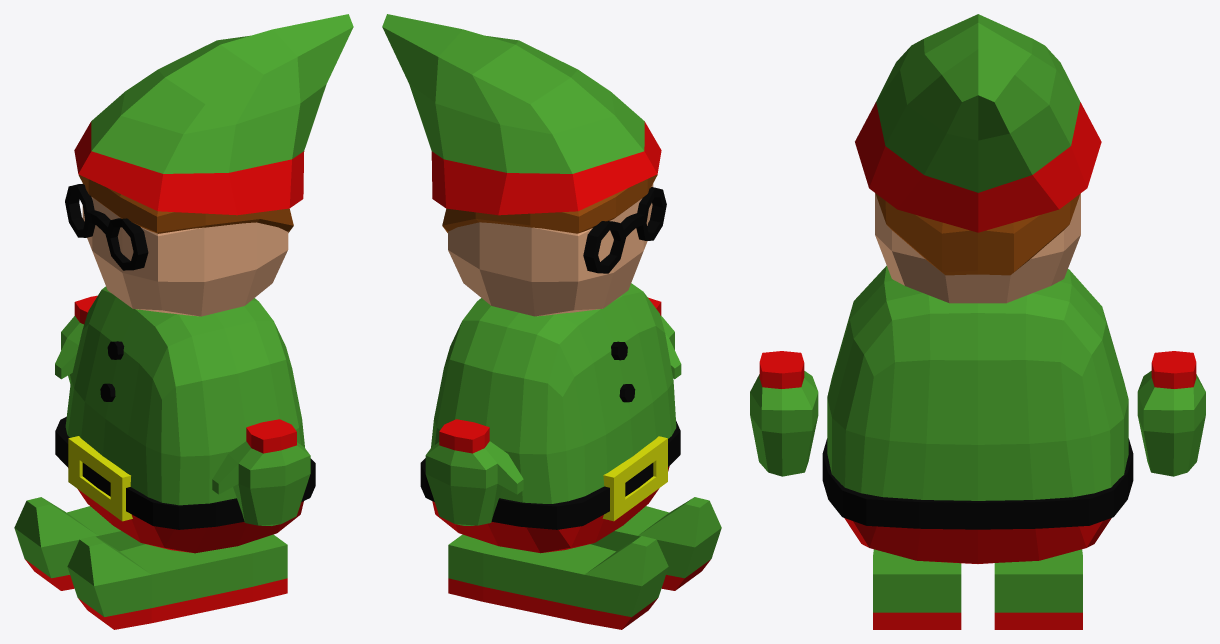
File: ELF-base-Wglasses.fbx
3 views of the same model, side by side, from view 1: azimuth 30°, elevation 25°; view 2: azimuth 150°, elevation 25°; view 3: azimuth 270°, elevation 25° (orthographic). The views are drawn at different scales.
Visible parts, largest first — view 1: Elf_Body_1, Elf_hat, Elf_Left_shoe, Elf_head, Elf_Left_hand, Elf_Right_shoe, Elf_blet_1, Elf_hair_1, Glasses, Elf_Belt_buckle_1, Elf_Right_hand; view 2: Elf_Body_1, Elf_hat, Elf_Right_shoe, Elf_head, Elf_Right_hand, Elf_Left_shoe, Elf_blet_1, Elf_hair_1, Glasses, Elf_Belt_buckle_1, Elf_Left_hand; view 3: Elf_Body_1, Elf_hat, Elf_blet_1, Elf_hair_1, Elf_head, Elf_Right_hand, Elf_Left_hand, Elf_Right_shoe, Elf_Left_shoe.
Boxes of the visible parts, x1,y1,x2,y2 form: Elf_Body_1: [65, 286, 304, 553]; Elf_hat: [74, 14, 353, 215]; Elf_Left_shoe: [67, 534, 287, 629]; Elf_head: [82, 183, 288, 316]; Elf_Left_hand: [212, 419, 310, 525]; Elf_Right_shoe: [14, 497, 145, 590]; Elf_blet_1: [55, 417, 315, 529]; Elf_hair_1: [78, 174, 293, 233]; Glasses: [65, 184, 148, 270]; Elf_Belt_buckle_1: [68, 436, 132, 521]; Elf_Right_hand: [55, 295, 97, 384]; Elf_Body_1: [431, 283, 676, 553]; Elf_hat: [382, 14, 661, 215]; Elf_Right_shoe: [448, 534, 668, 629]; Elf_head: [448, 183, 653, 316]; Elf_Right_hand: [425, 419, 523, 525]; Elf_Left_shoe: [590, 497, 721, 590]; Elf_blet_1: [420, 421, 680, 529]; Elf_hair_1: [442, 174, 657, 233]; Glasses: [583, 187, 666, 273]; Elf_Belt_buckle_1: [602, 436, 667, 521]; Elf_Left_hand: [648, 297, 681, 379]; Elf_Body_1: [827, 265, 1128, 563]; Elf_hat: [855, 14, 1101, 232]; Elf_blet_1: [822, 438, 1133, 529]; Elf_hair_1: [875, 193, 1079, 275]; Elf_head: [875, 193, 1080, 303]; Elf_Right_hand: [1137, 351, 1205, 476]; Elf_Left_hand: [750, 351, 818, 476]; Elf_Right_shoe: [994, 549, 1082, 629]; Elf_Left_shoe: [873, 549, 961, 629].
Bounding box in the file's own units: 29.45 × 49.95 × 34.51.
